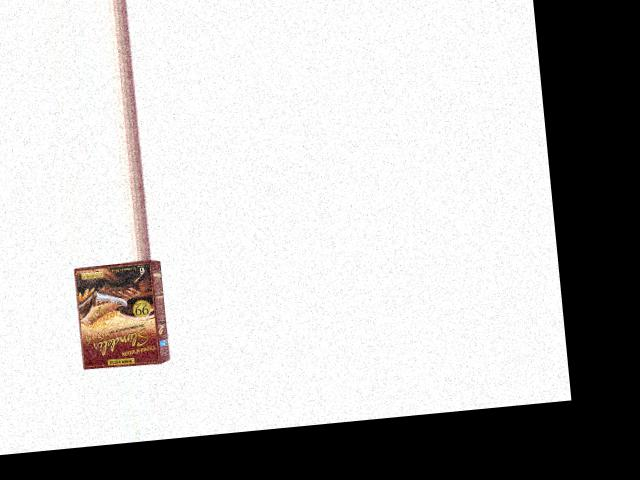chocolate: (64, 257, 175, 373)
